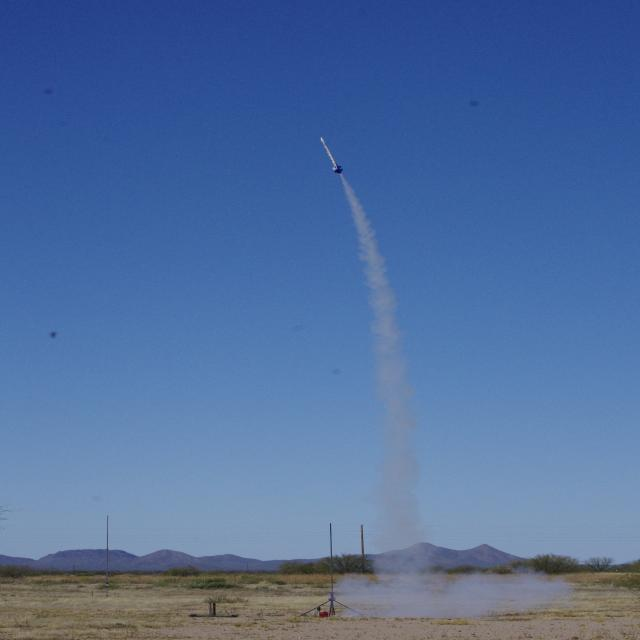Rocket: (320, 137, 344, 174)
